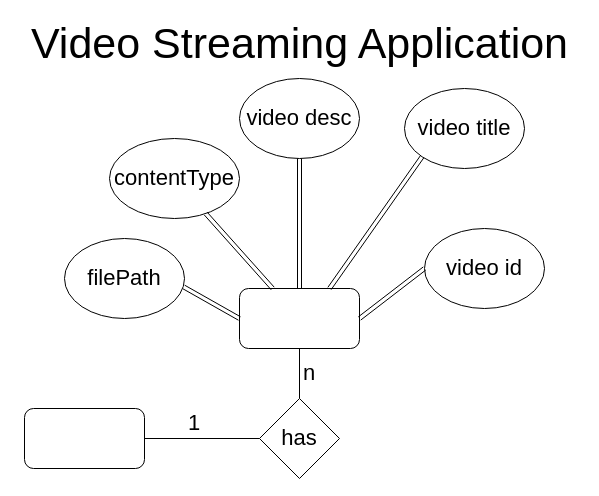
Some shapes in this 599 by 496 pixel diagram are drawn without their labels. The shapes that lost their labels are listed below. From the top down, each one's centre as x and y in pixels, then its label:
pixel 299 318: video
pixel 84 438: course
